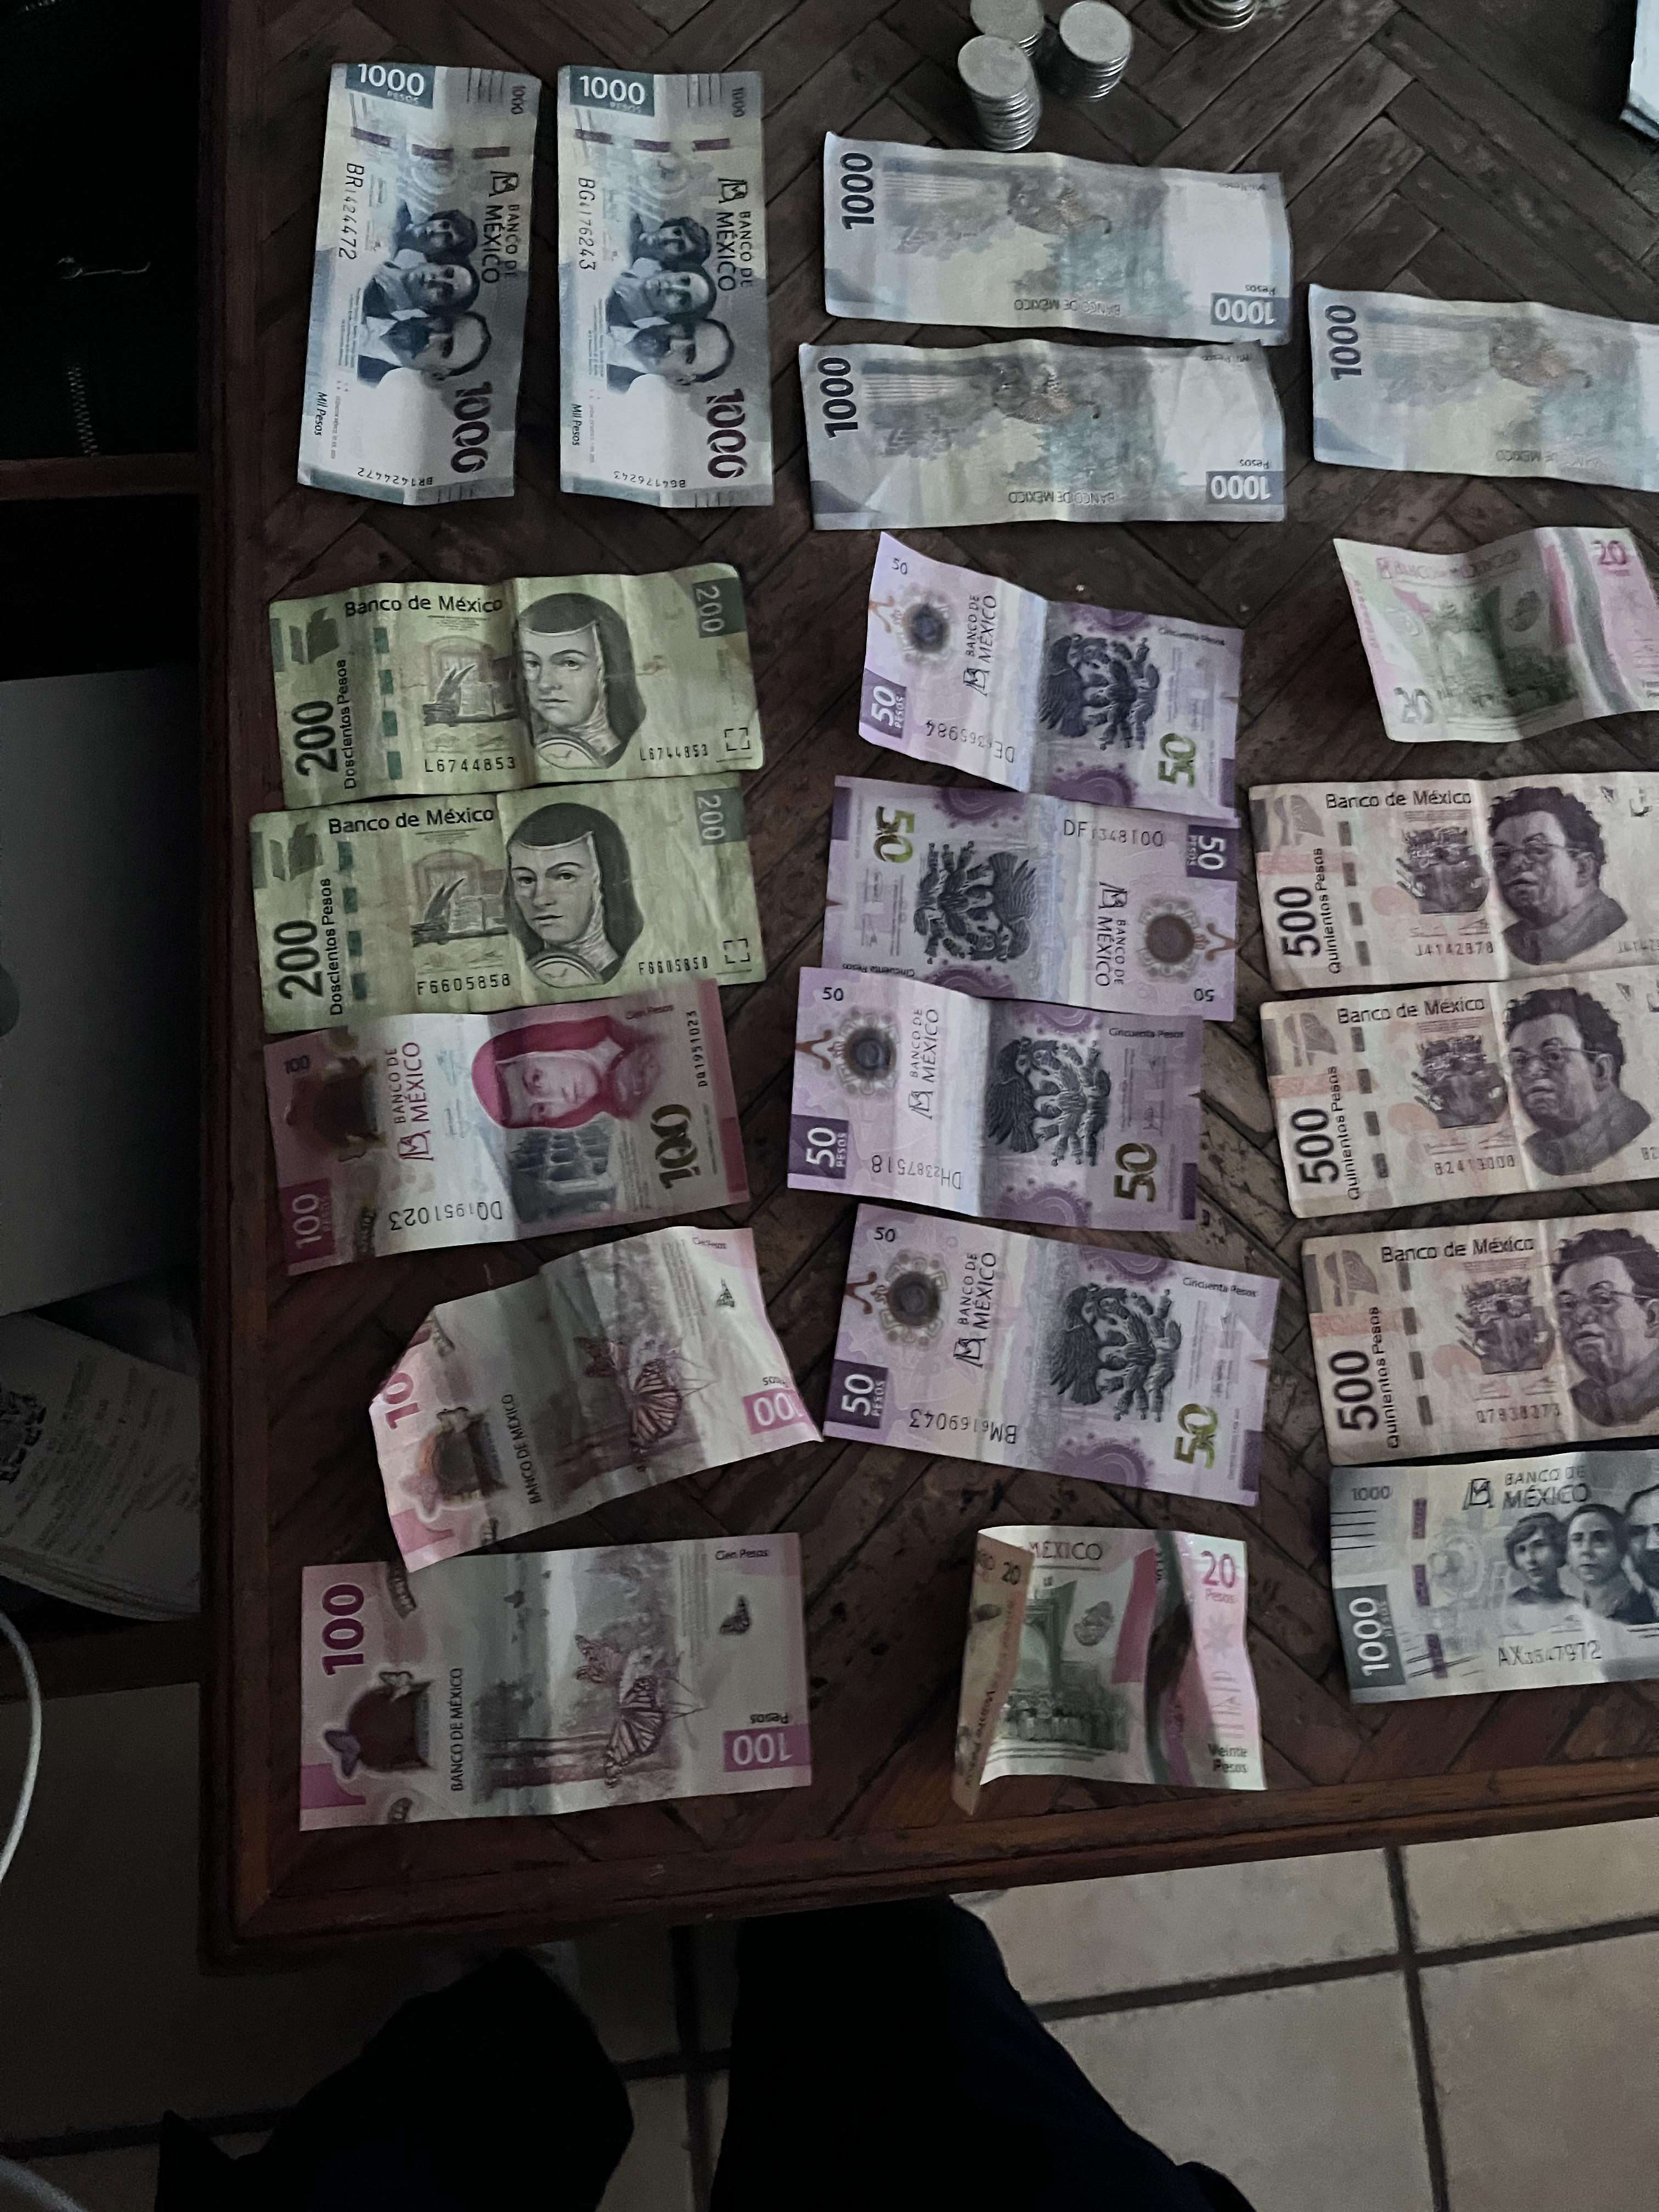100: (350, 1204, 849, 1561), (293, 1533, 852, 1836), (242, 974, 765, 1261)
1000: (254, 23, 605, 491), (770, 273, 1310, 559), (756, 110, 1347, 347), (532, 47, 828, 509), (1256, 195, 1659, 493)
20: (932, 1468, 1333, 1813), (1291, 488, 1659, 773)
200: (200, 754, 788, 1015), (234, 545, 845, 784)
50: (807, 1146, 1304, 1519), (755, 949, 1253, 1237), (835, 543, 1307, 824), (784, 738, 1262, 1007)
500: (1237, 963, 1659, 1237), (1232, 740, 1659, 993), (1272, 1191, 1659, 1465)
bills: (1310, 1428, 1659, 1723)
